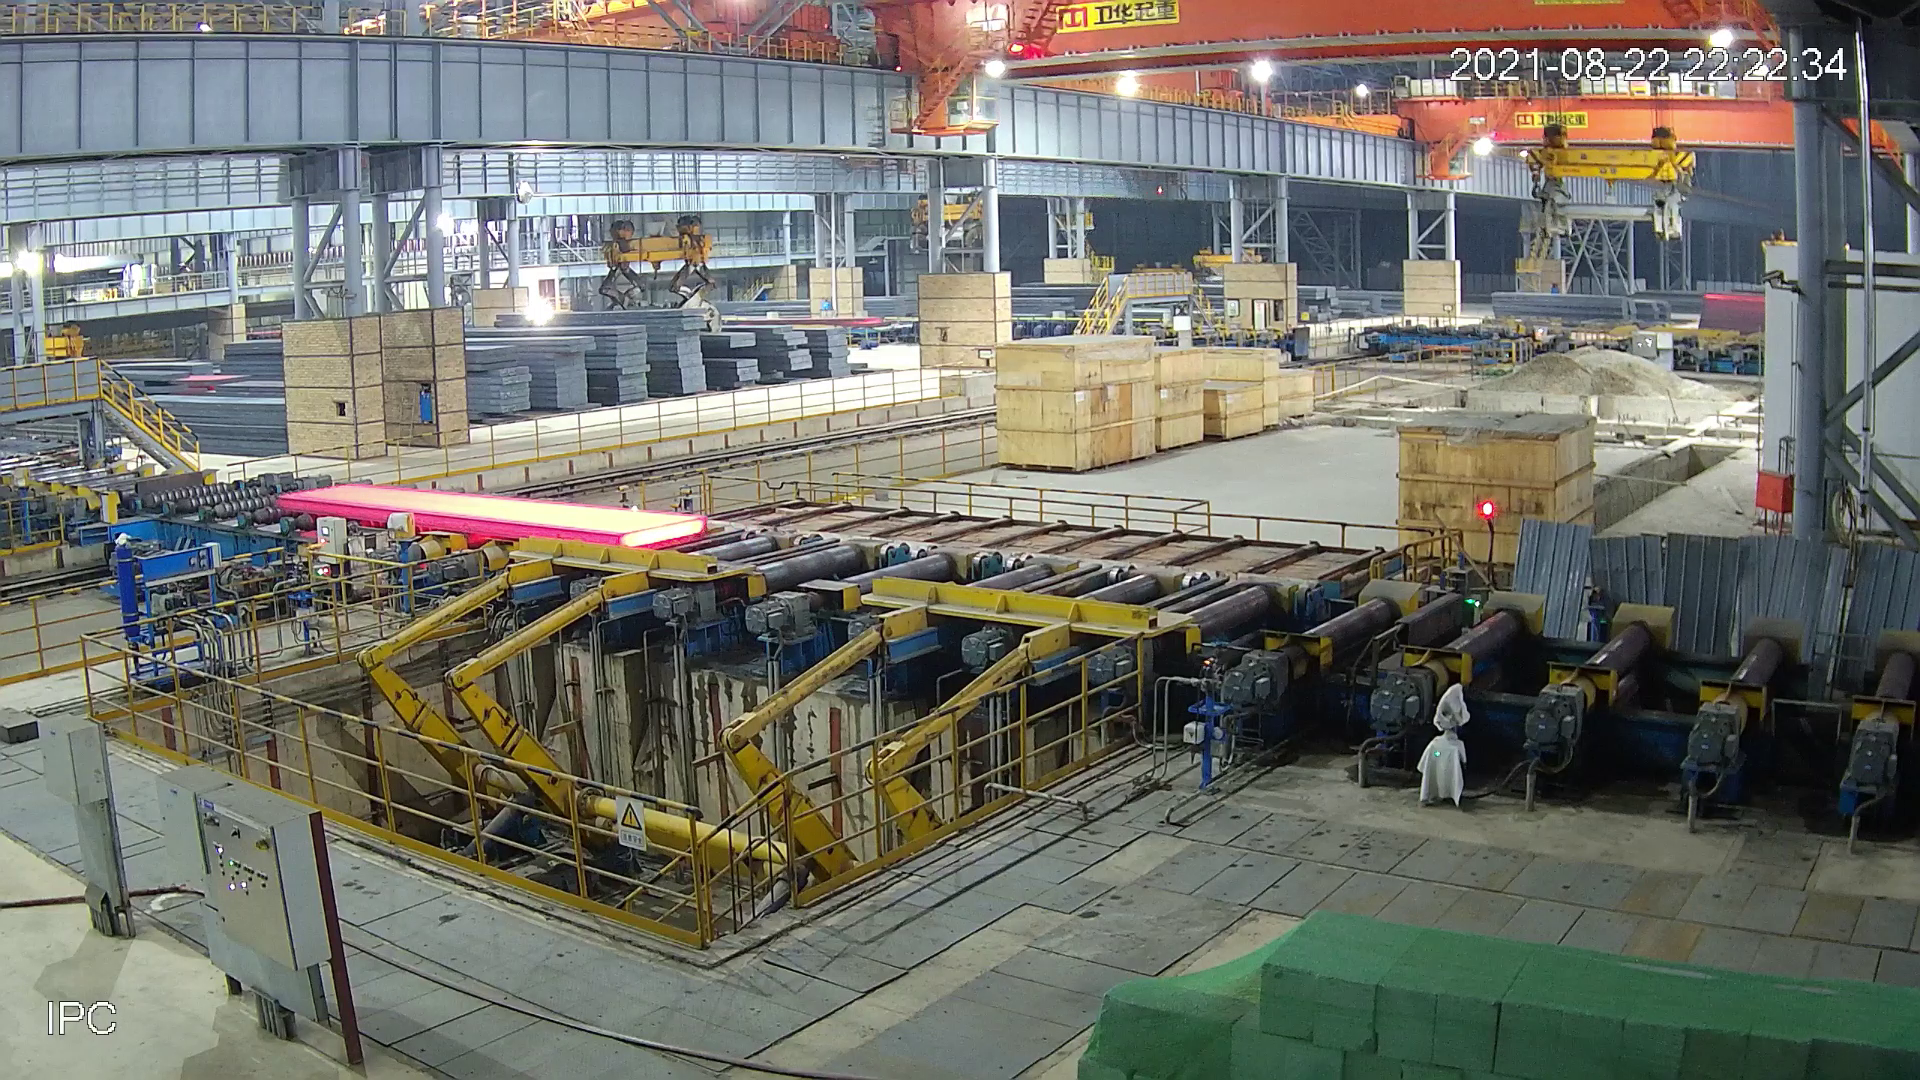slab: (274, 483, 708, 550)
